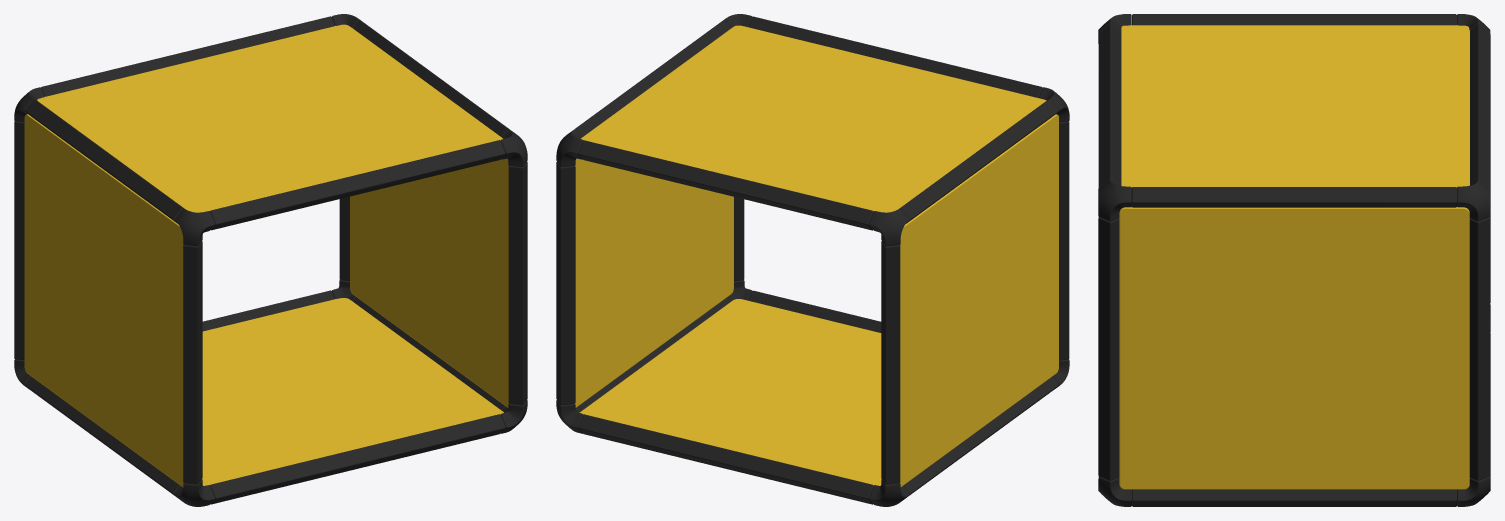
3 renders of one model, left to right at view 1: azimuth 30°, elevation 25°; view 2: azimuth 150°, elevation 25°; view 3: azimuth 270°, elevation 25°, orthographic. The views are drawn at different scales.
Visible parts, largest first — view 1: 420x374x330; view 2: 420x374x330; view 3: 420x374x330.
Part boxes in pixels (bbox=[...]): 420x374x330: bbox=[14, 14, 527, 506]; 420x374x330: bbox=[556, 14, 1069, 506]; 420x374x330: bbox=[1098, 14, 1490, 506].
Size of the model in its own units: 0.4977 by 0.4066 by 0.4513.
